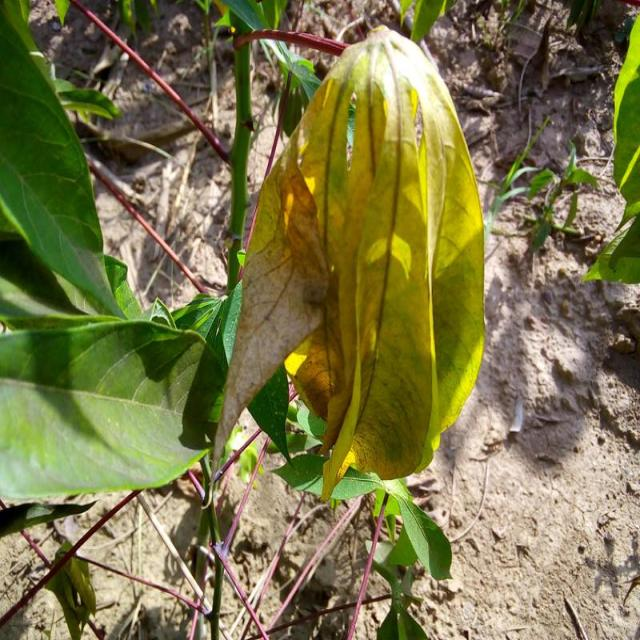cassava leaf: (209, 24, 486, 504), (0, 316, 226, 502)
